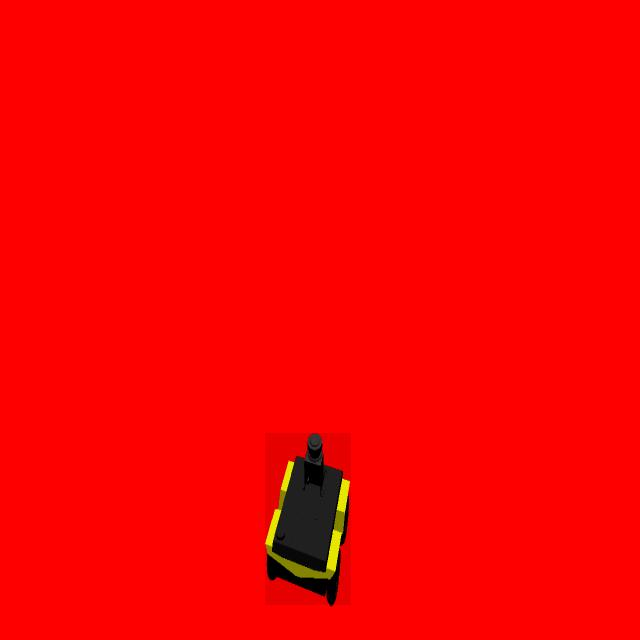jackal: (265, 434, 351, 606)
